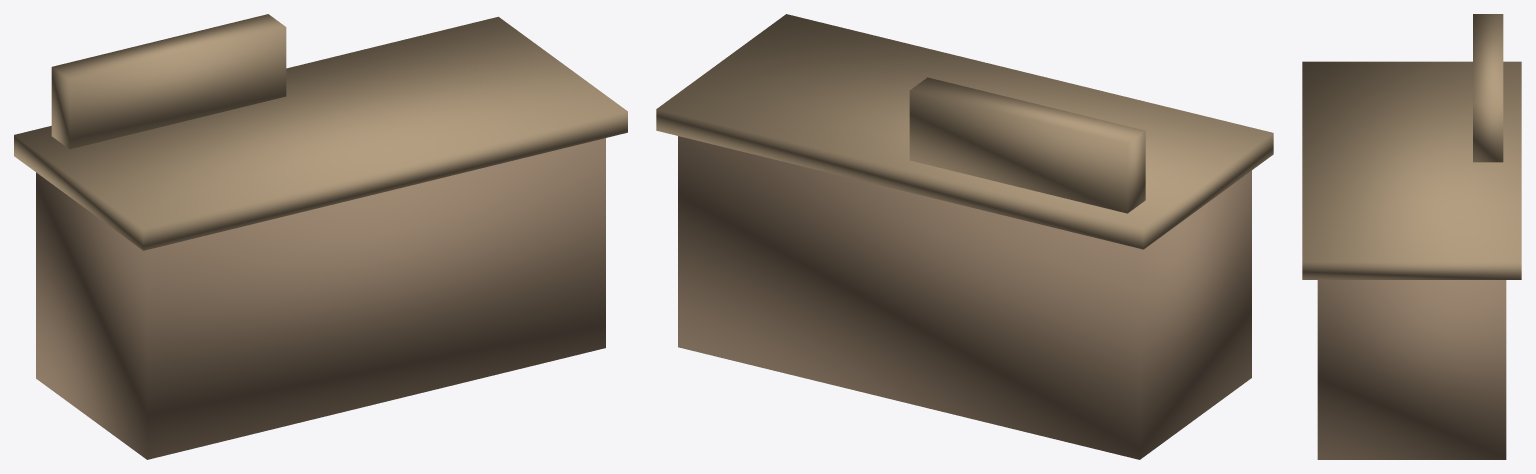
File: security_desk__deep.glb
3 renders of one model, left to right at view 1: azimuth 30°, elevation 25°; view 2: azimuth 150°, elevation 25°; view 3: azimuth 270°, elevation 25°, orthographic. The views are drawn at different scales.
Parts seen in each view (by area): view 1: world; view 2: world; view 3: world.
Boxes of the visible parts, left/top/right/bottom form: world: left=14, top=14, right=627, bottom=459; world: left=656, top=14, right=1273, bottom=459; world: left=1302, top=14, right=1521, bottom=459.
Size of the model in its own units: 1.9 by 1.16 by 0.8784.
